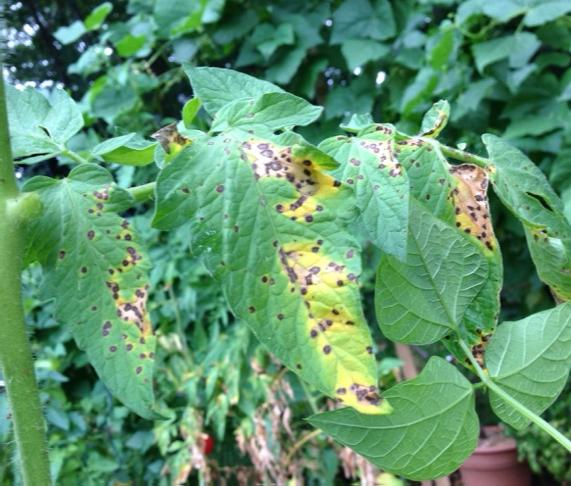Tomato Septoria leaf spot: (187, 136, 391, 416), (41, 163, 167, 413), (345, 130, 404, 274)
Tomato leaf: (483, 295, 571, 433)
